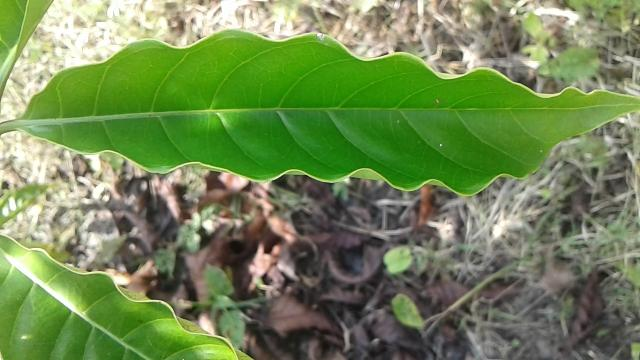healthy: (22, 28, 640, 194)
